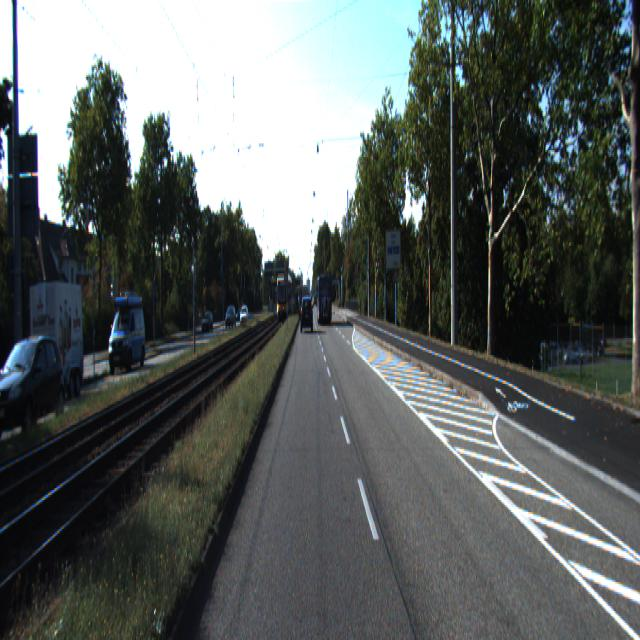Car: (0, 328, 74, 438), (29, 271, 86, 403), (106, 305, 146, 378), (316, 274, 333, 323), (301, 296, 312, 332)
